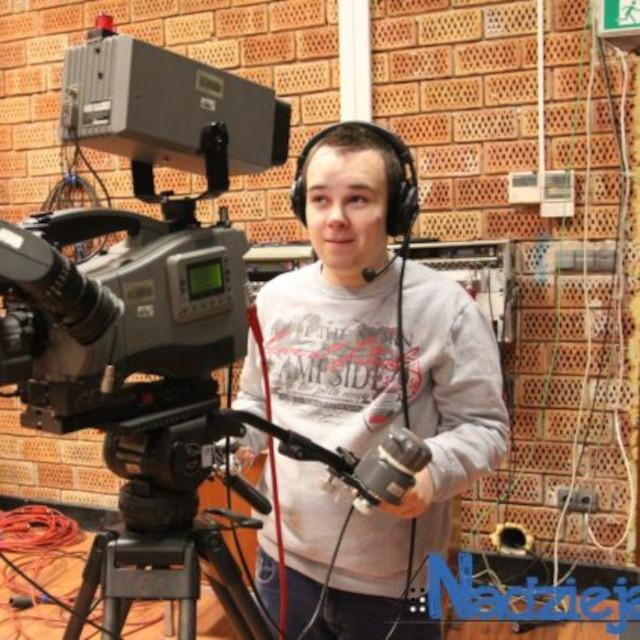mezczyzna: (247, 123, 490, 640)
